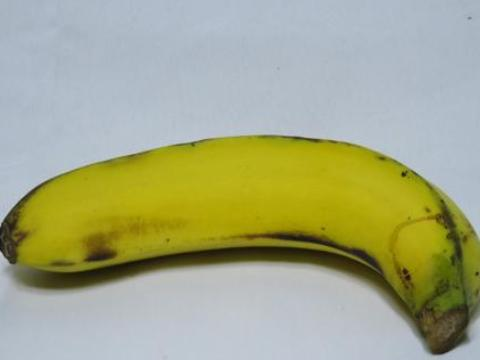freshripe: (3, 123, 479, 354)
